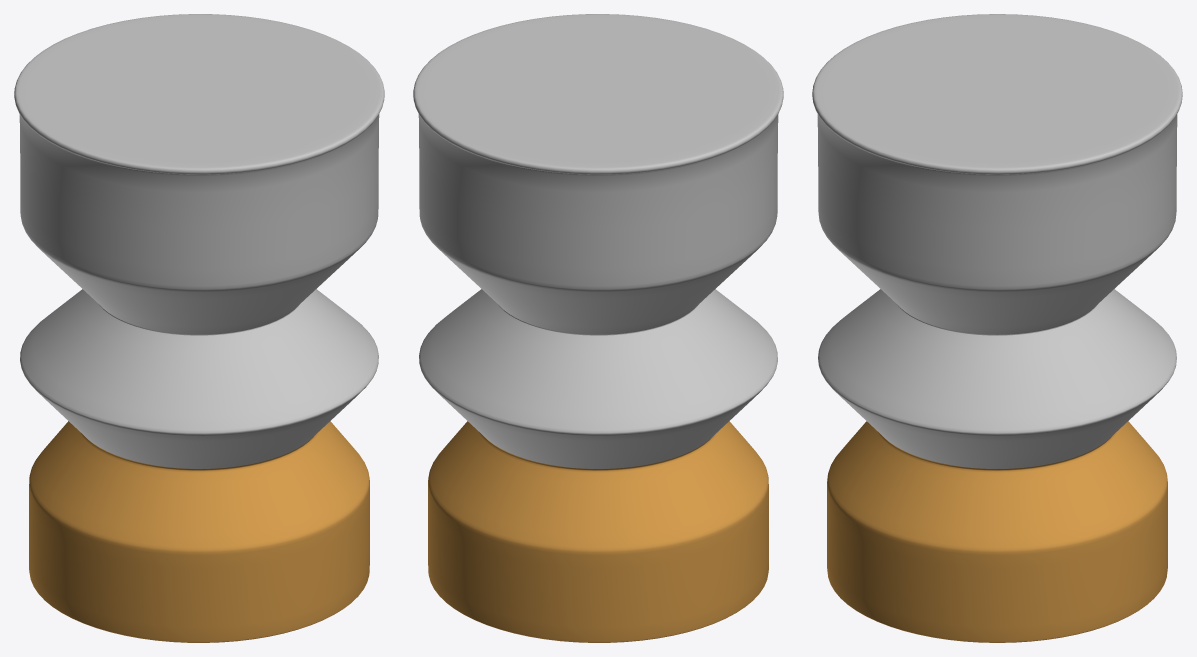
The model's file is SideTable_006.gltf.
3 views of the same model, side by side, from view 1: azimuth 30°, elevation 25°; view 2: azimuth 150°, elevation 25°; view 3: azimuth 270°, elevation 25° (orthographic).
Parts seen in each view (by area): view 1: SideTable_006; view 2: SideTable_006; view 3: SideTable_006.
Part boxes in pixels (box(x1,y1,x2,y2)): SideTable_006: box(14, 14, 384, 642); SideTable_006: box(413, 14, 783, 642); SideTable_006: box(812, 14, 1182, 642).
Bounding box in the file's own units: 0.3944 × 0.5648 × 0.3944.
Materials: 1 (1 with a texture image).
